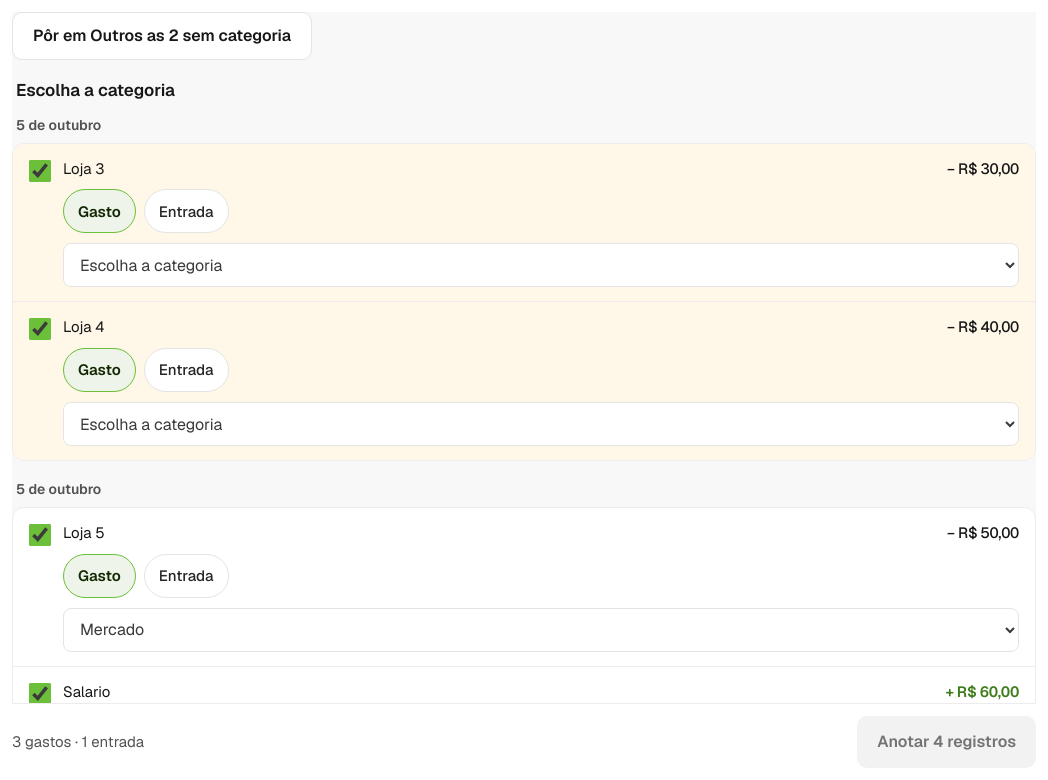
"Pôr em Outros as 2 sem categoria" liga o botão; desmarcar muda resumo e número
Check: the text "3 gastos · 1 entrada" is shown, box x1=12 y1=731 x2=144 y2=753
Check: the button "Anotar 4 registros" is shown, box x1=857 y1=716 x2=1036 y2=768
Click the button "Pôr em Outros as 2 sem categoria" at (162, 36), box x1=12 y1=12 x2=312 y2=60
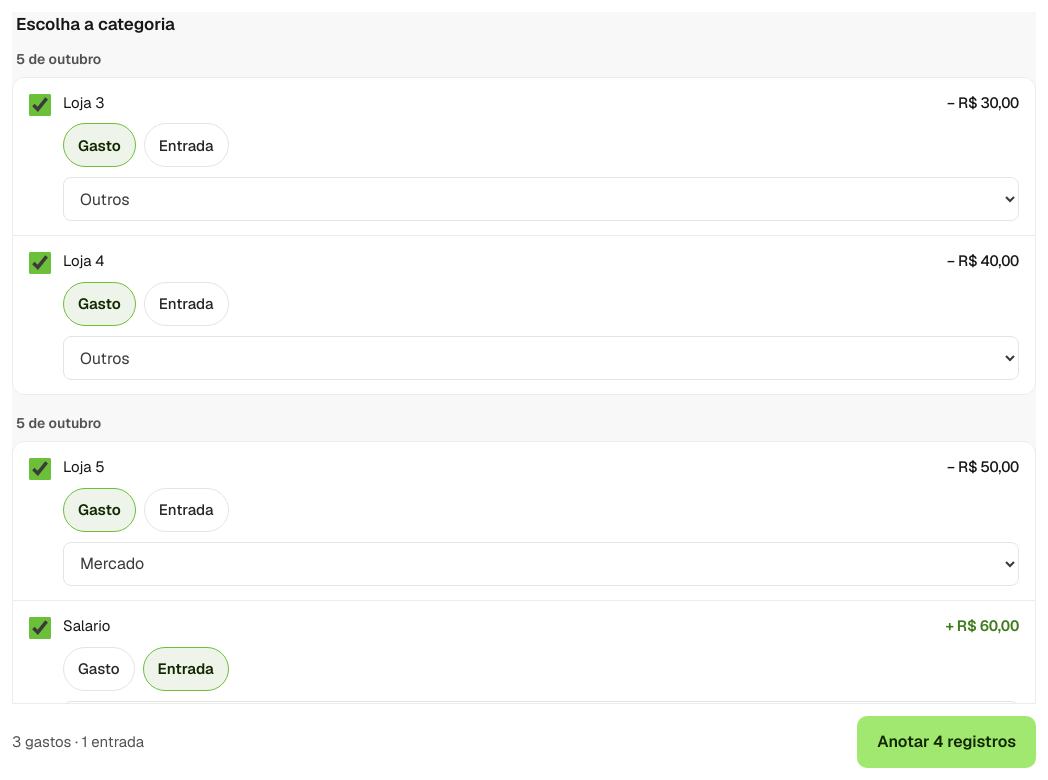
Check: the button "Anotar 4 registros" is enabled, box x1=857 y1=716 x2=1036 y2=768
Check: the button "Pôr em Outros" is gone
Click the checkbox labelled "Salario + R$ 60,00" at (40, 628), box x1=29 y1=617 x2=51 y2=639
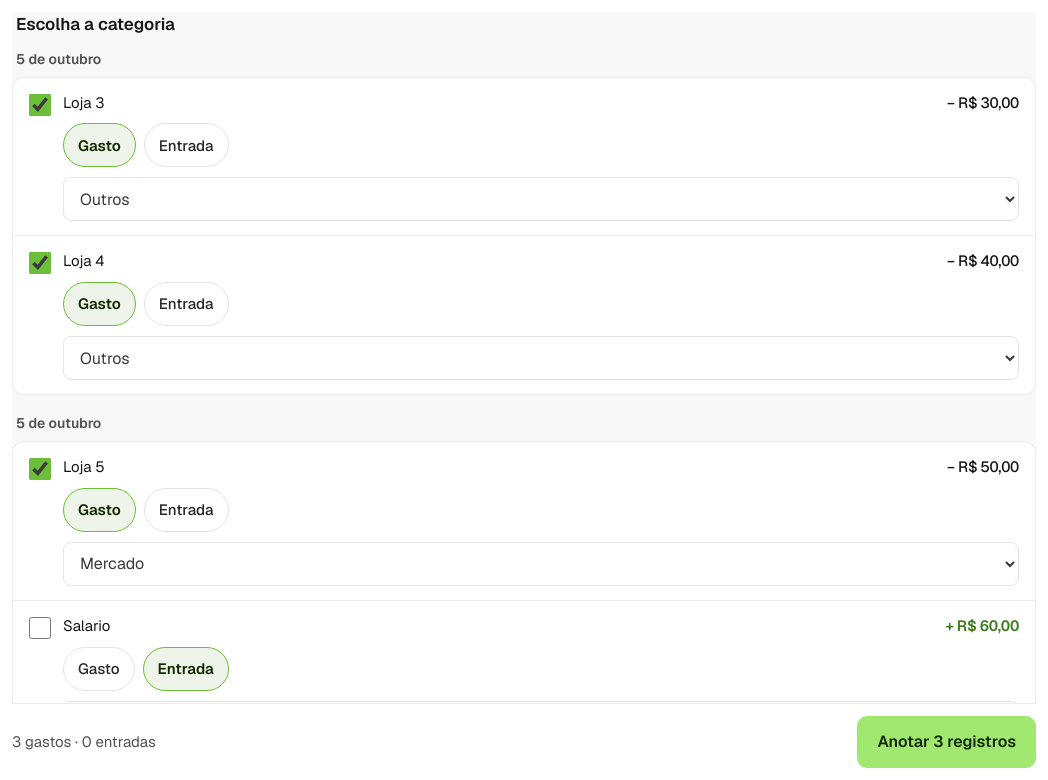
Check: the text "3 gastos · 0 entradas" is shown, box x1=12 y1=731 x2=156 y2=753
Check: the button "Anotar 3 registros" is shown, box x1=858 y1=716 x2=1036 y2=768
